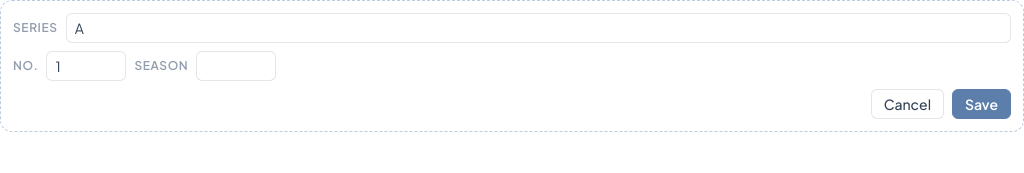
it: DigestFacets edit › failed save shows localized error and stays in edit
This screenshot has width=1024, height=173.
Click the button "Save".
click(982, 104)  # box left=952, top=89, right=1011, bottom=119
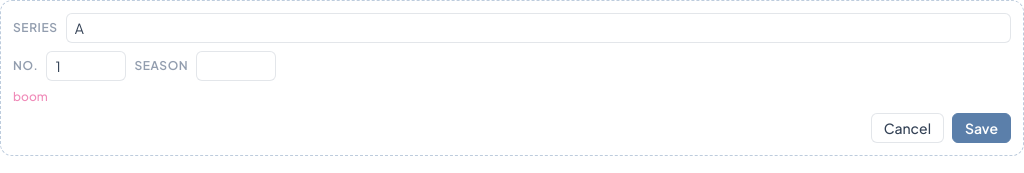
Expected: the text "boom" is shown, left=13, top=89, right=48, bottom=104
